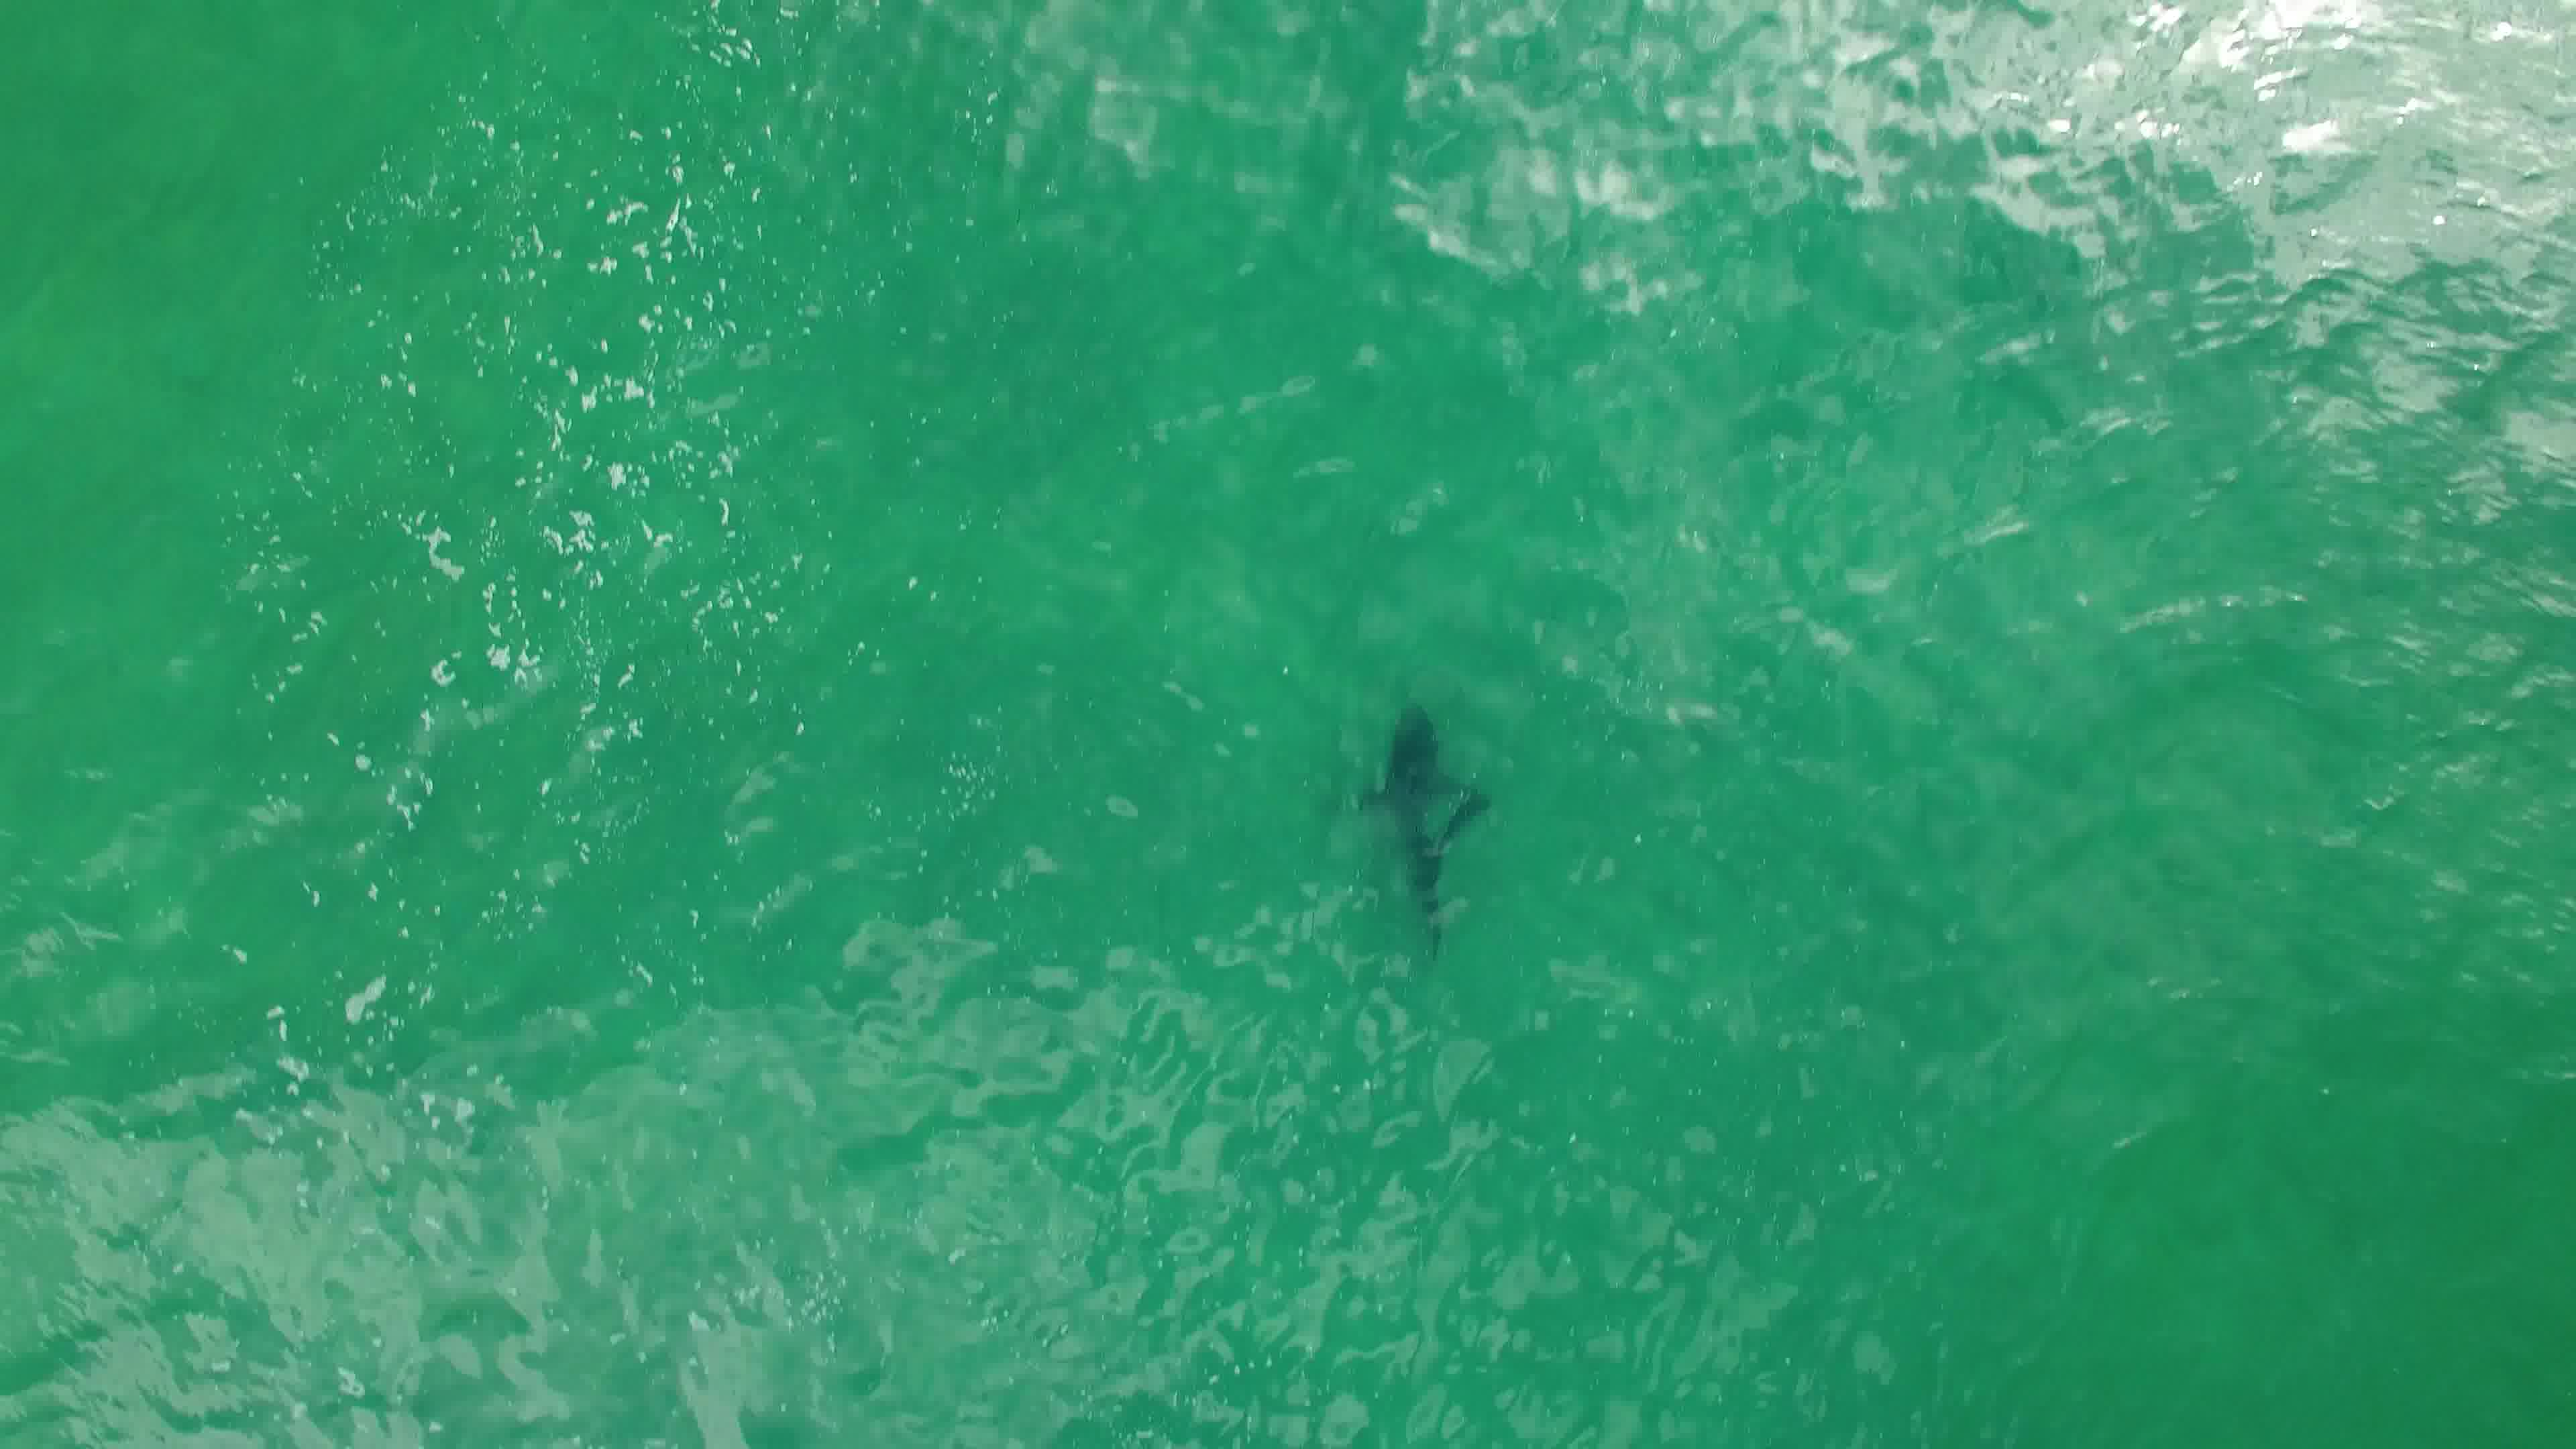shark: (1341, 697, 1499, 966)
